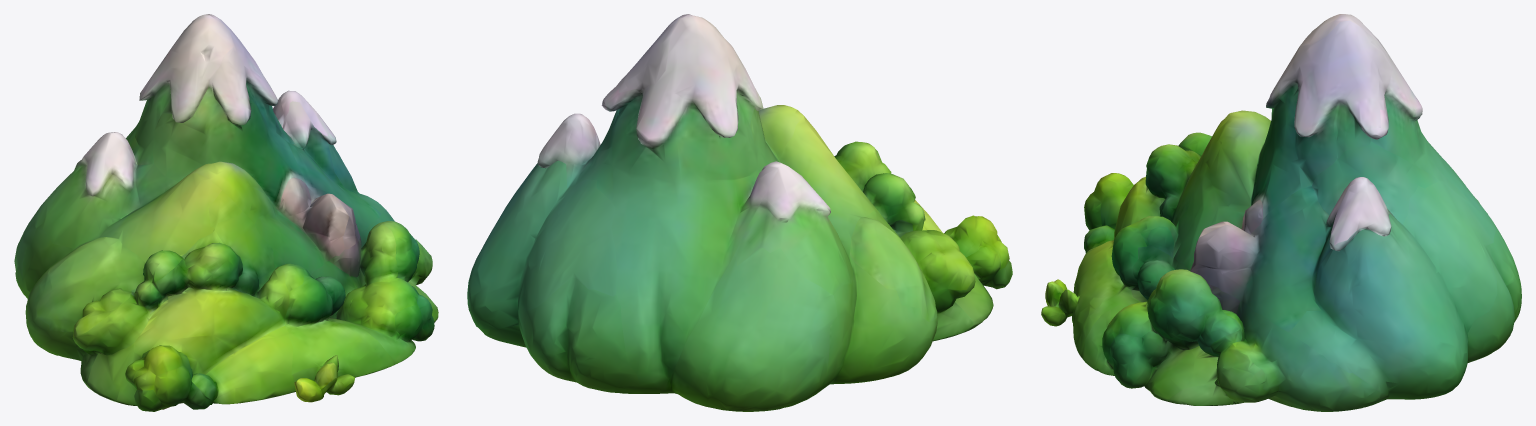
Rendered from mountain.glb.
3 renders of one model, left to right at view 1: azimuth 30°, elevation 25°; view 2: azimuth 150°, elevation 25°; view 3: azimuth 270°, elevation 25°, orthographic. The views are drawn at different scales.
Bounding box in the file's own units: 0.98 × 0.7161 × 1.
1 material, 1 textured.
